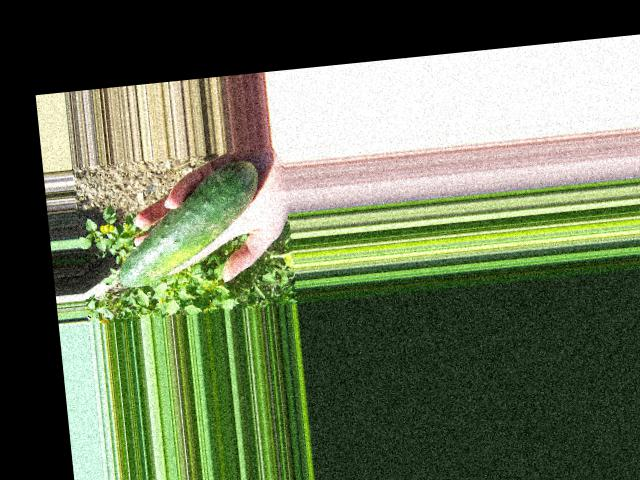cucumber: (108, 159, 266, 288)
